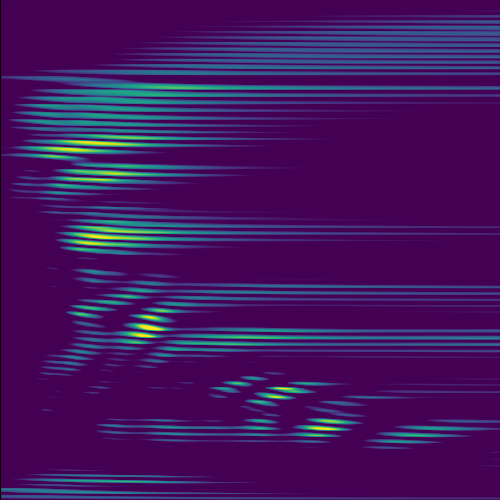semblance: (57, 217, 179, 256), (30, 129, 161, 163), (123, 304, 180, 351), (57, 163, 150, 190), (303, 414, 355, 434), (260, 382, 304, 405)
